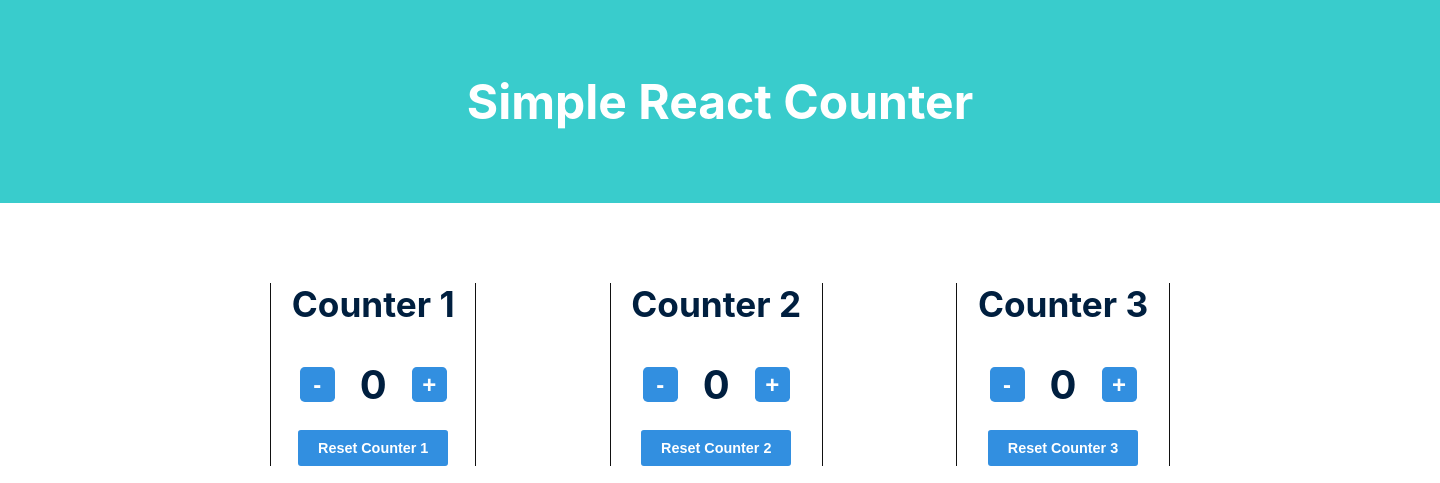
Scenario: Counter 1 › increments counter
Click the button with test id "counter-one-button-up" at [429, 384], box top-left (412, 367), bottom-right (447, 402)
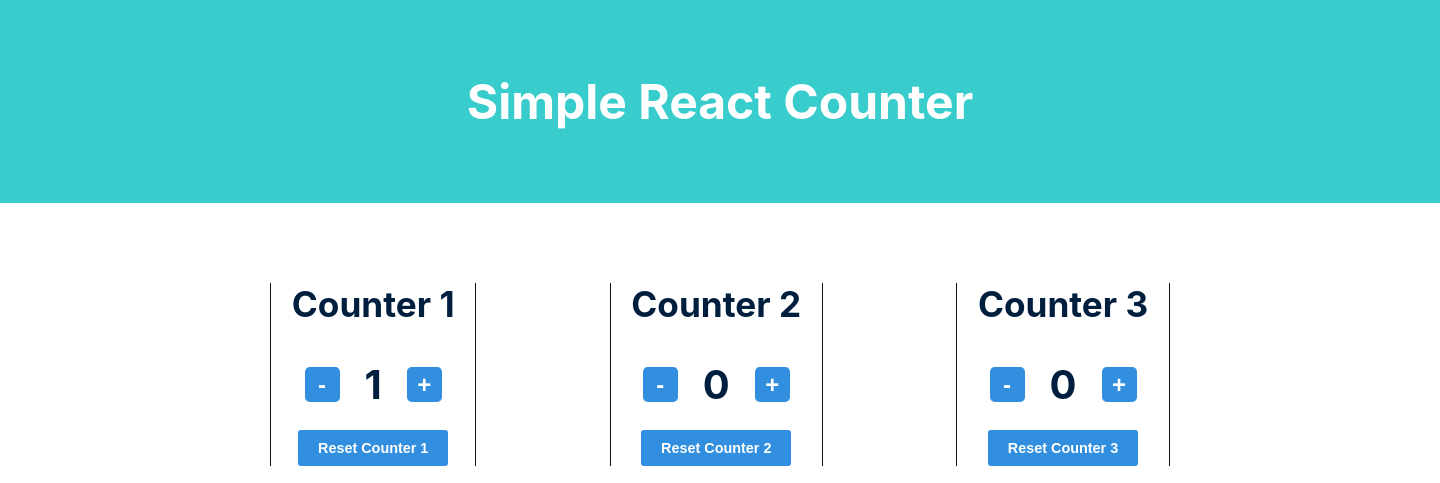
Check: the text with test id "counter-one" reads "1", box top-left (364, 360), bottom-right (382, 409)
